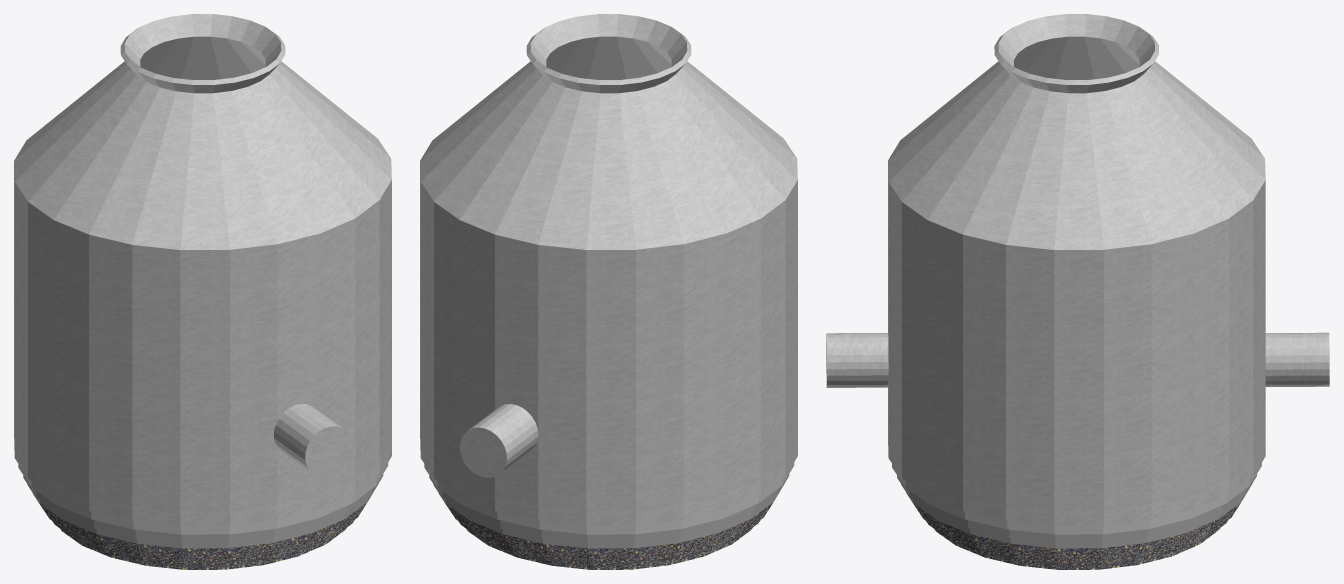
File: converter.dae
3 renders of one model, left to right at view 1: azimuth 30°, elevation 25°; view 2: azimuth 150°, elevation 25°; view 3: azimuth 270°, elevation 25°, orthographic.
Parts seen in each view (by area): view 1: mesh1-geometry_material0_IndexedFaceSet, mesh1-geometry_material2_IndexedFaceSet, mesh1-geometry_material4_IndexedFaceSet, mesh1-geometry_material1_IndexedFaceSet, mesh29-geometry_material0_IndexedFaceSet, mesh1-geometry_material5_IndexedFaceSet, mesh1-geometry_material3_IndexedFaceSet; view 2: mesh1-geometry_material0_IndexedFaceSet, mesh1-geometry_material2_IndexedFaceSet, mesh1-geometry_material4_IndexedFaceSet, mesh1-geometry_material1_IndexedFaceSet, mesh28-geometry_material0_IndexedFaceSet, mesh1-geometry_material5_IndexedFaceSet, mesh1-geometry_material3_IndexedFaceSet; view 3: mesh1-geometry_material0_IndexedFaceSet, mesh1-geometry_material2_IndexedFaceSet, mesh1-geometry_material4_IndexedFaceSet, mesh1-geometry_material1_IndexedFaceSet, mesh28-geometry_material0_IndexedFaceSet, mesh29-geometry_material0_IndexedFaceSet, mesh1-geometry_material5_IndexedFaceSet, mesh1-geometry_material3_IndexedFaceSet.
Part boxes in pixels (x1,y1,x2,y2): mesh1-geometry_material0_IndexedFaceSet: (14, 14, 391, 526); mesh1-geometry_material2_IndexedFaceSet: (32, 493, 367, 569); mesh1-geometry_material4_IndexedFaceSet: (23, 474, 383, 548); mesh1-geometry_material1_IndexedFaceSet: (140, 36, 265, 79); mesh29-geometry_material0_IndexedFaceSet: (274, 404, 351, 476); mesh1-geometry_material5_IndexedFaceSet: (18, 462, 388, 534); mesh1-geometry_material3_IndexedFaceSet: (42, 503, 366, 569); mesh1-geometry_material0_IndexedFaceSet: (420, 14, 797, 526); mesh1-geometry_material2_IndexedFaceSet: (438, 493, 773, 569); mesh1-geometry_material4_IndexedFaceSet: (429, 474, 789, 548); mesh1-geometry_material1_IndexedFaceSet: (546, 36, 671, 79); mesh28-geometry_material0_IndexedFaceSet: (460, 404, 538, 477); mesh1-geometry_material5_IndexedFaceSet: (424, 462, 794, 534); mesh1-geometry_material3_IndexedFaceSet: (448, 506, 768, 569); mesh1-geometry_material0_IndexedFaceSet: (888, 14, 1265, 526); mesh1-geometry_material2_IndexedFaceSet: (907, 494, 1240, 569); mesh1-geometry_material4_IndexedFaceSet: (897, 474, 1256, 548); mesh1-geometry_material1_IndexedFaceSet: (1014, 36, 1139, 79); mesh28-geometry_material0_IndexedFaceSet: (1265, 332, 1329, 386); mesh29-geometry_material0_IndexedFaceSet: (826, 333, 888, 387); mesh1-geometry_material5_IndexedFaceSet: (892, 463, 1261, 534); mesh1-geometry_material3_IndexedFaceSet: (906, 493, 1239, 569).
Bounding box in the file's own units: 1.25 × 1.7 × 1.67.
